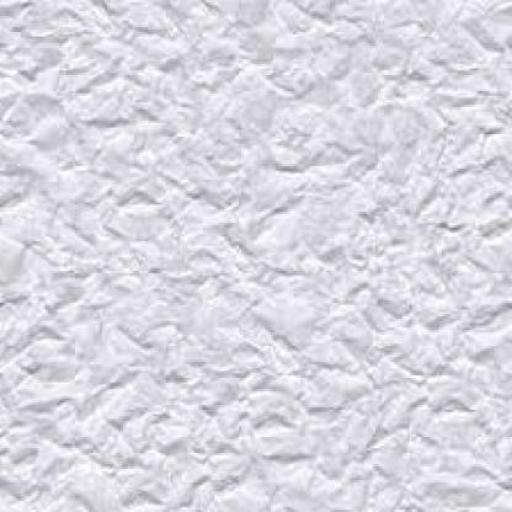paper: (2, 0, 511, 511)
